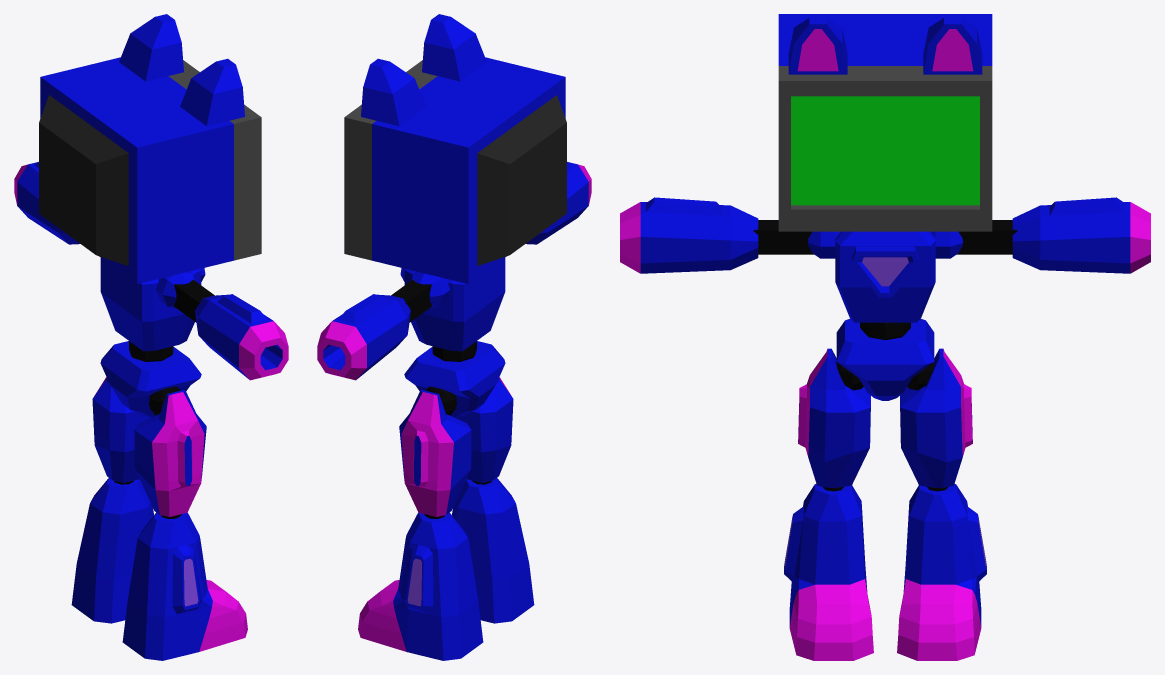
File: Player Mesh.fbx
3 views of the same model, side by side, from view 1: azimuth 30°, elevation 25°; view 2: azimuth 150°, elevation 25°; view 3: azimuth 270°, elevation 25° (orthographic). The views are drawn at different scales.
Parts seen in each view (by area): view 1: head, Legs Lower, Legs Up, ARMS, ears, torso Up, Pelviis, Ngalos LOL XD, Hlombes, Waist; view 2: head, Legs Lower, Legs Up, ARMS, ears, torso Up, Pelviis, Ngalos LOL XD, Hlombes, Waist; view 3: head, Legs Lower, ARMS, Legs Up, torso Up, ears, Pelviis, Ngalos LOL XD, Power, Hlombes, Waist.
Boxes of the visible parts, x1,y1,x2,y2 form: head: (39, 57, 261, 284); Legs Lower: (71, 478, 247, 660); Legs Up: (92, 377, 206, 516); ARMS: (14, 162, 288, 380); ears: (119, 14, 244, 126); torso Up: (100, 258, 201, 351); Pelviis: (100, 341, 201, 417); Ngalos LOL XD: (174, 280, 214, 322); Hlombes: (155, 271, 196, 308); Waist: (129, 341, 173, 361); head: (344, 57, 566, 284); Legs Lower: (358, 478, 534, 660); Legs Up: (399, 377, 513, 516); ARMS: (317, 162, 591, 380); ears: (361, 14, 486, 126); torso Up: (404, 258, 505, 351); Pelviis: (404, 341, 505, 417); Ngalos LOL XD: (391, 280, 431, 322); Hlombes: (409, 271, 450, 308); Waist: (432, 341, 476, 361); head: (778, 14, 992, 231); Legs Lower: (784, 484, 986, 660); ARMS: (620, 197, 1150, 273); Legs Up: (798, 348, 972, 487); torso Up: (835, 231, 935, 322); ears: (788, 18, 982, 74); Pelviis: (836, 318, 934, 400); Ngalos LOL XD: (753, 220, 1017, 254); Power: (852, 246, 918, 297); Hlombes: (807, 231, 963, 258); Waist: (860, 322, 910, 340).
Bounding box in the file's own units: 140 × 514 × 393.
